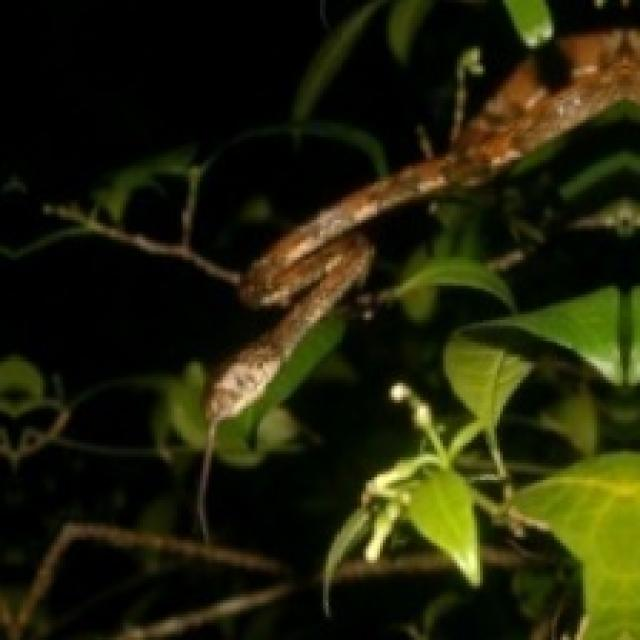philippine blunt-headed catsnake: (137, 29, 637, 440), (206, 29, 637, 431)
